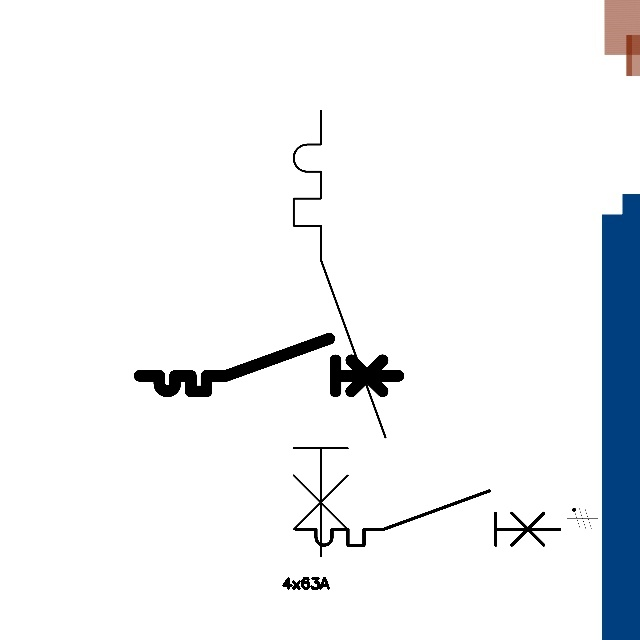interruptor_termomagnetico: (282, 99, 397, 568), (289, 484, 567, 552), (133, 332, 405, 398)
